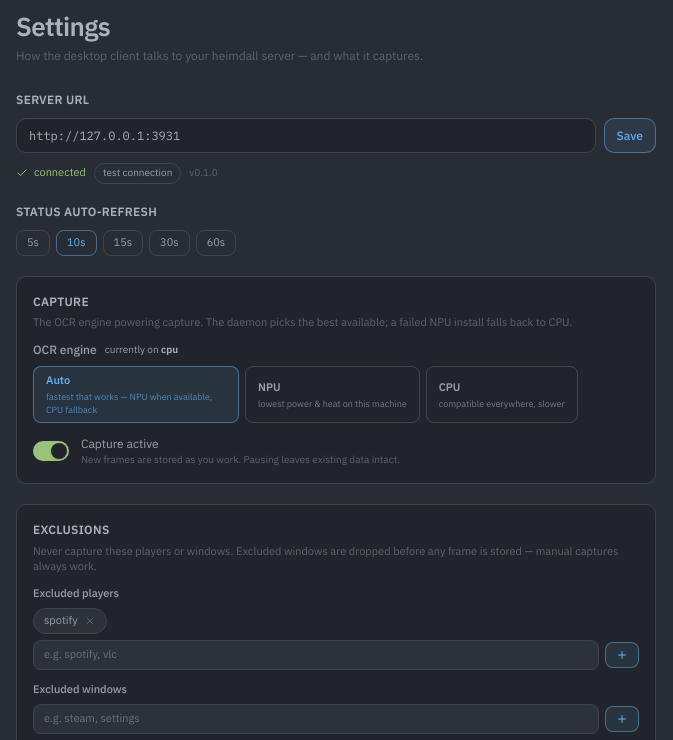
Test: SettingsSurface · capture › pauses capture through the toggle
Click the switch named "pause capture": x=51, y=451 x1=33 y1=441 x2=69 y2=461
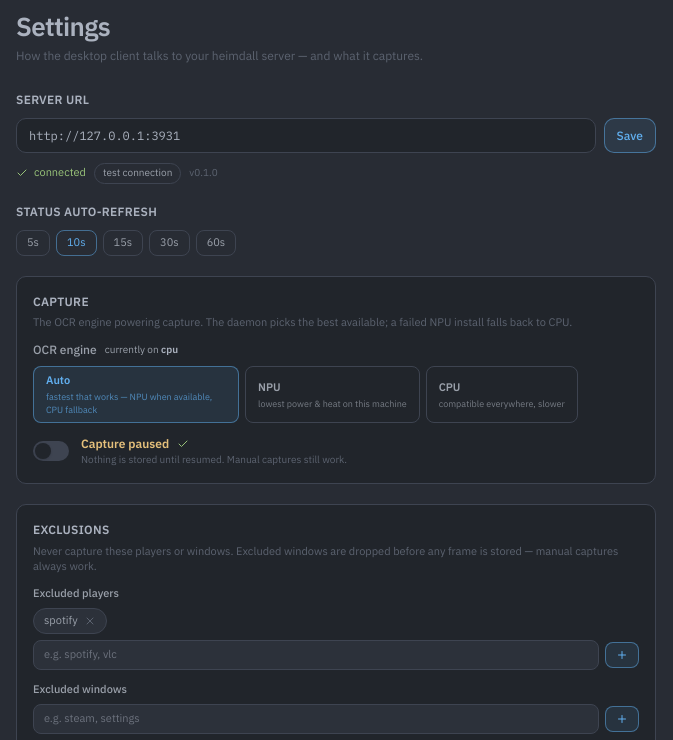
Expected: the text "Capture paused" is shown, x1=81 y1=435 x2=169 y2=453
